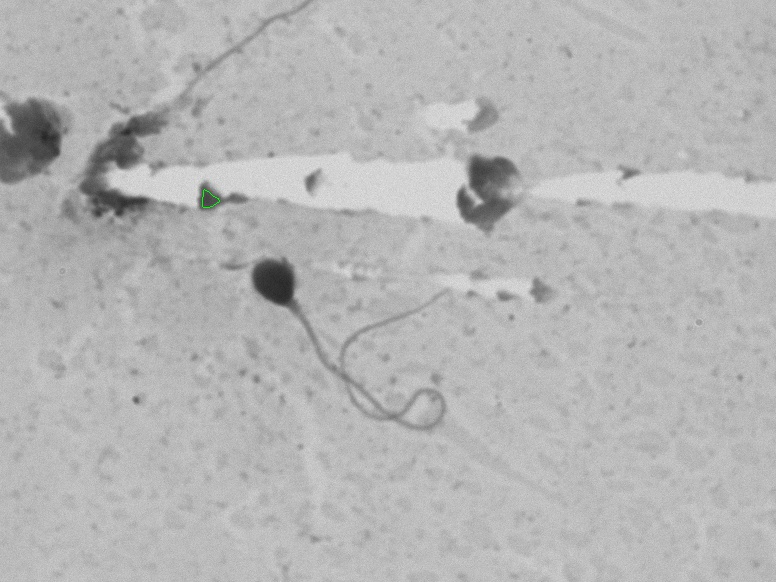Abnormal: (220, 238, 469, 459)
